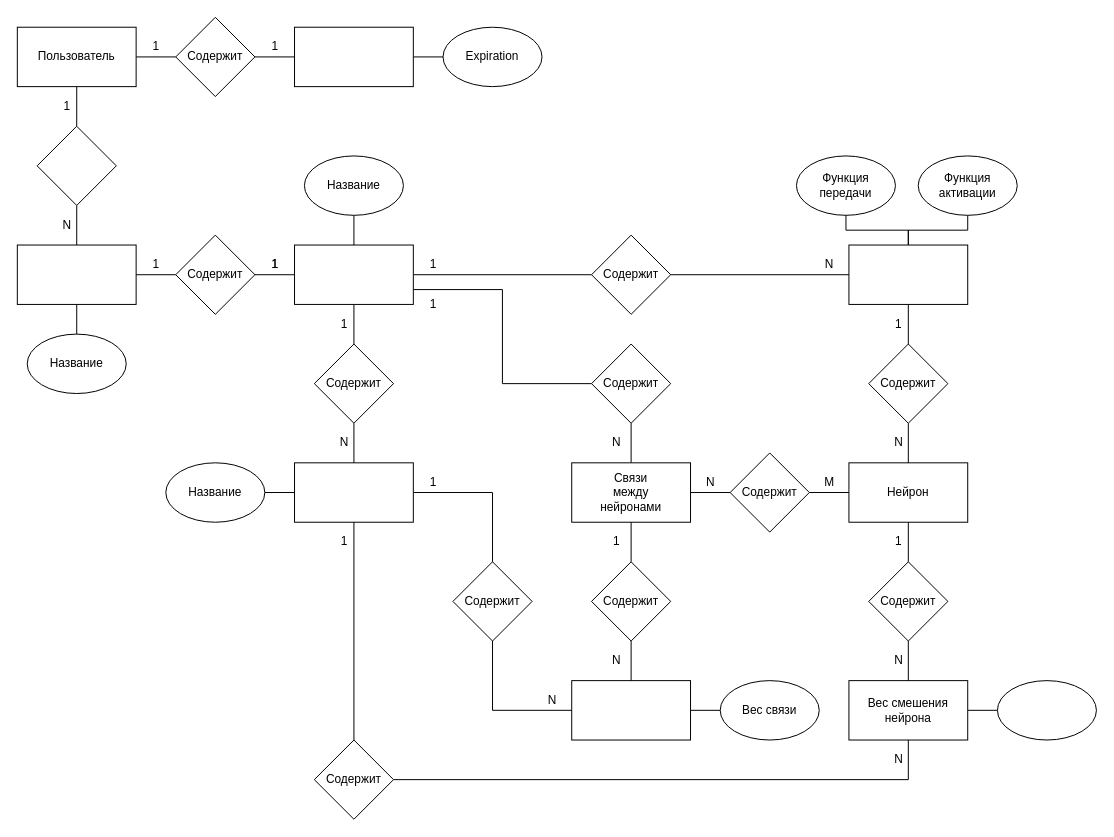
The diagram is 1114 pixels wide and 837 high, and some of its shapes have lost their labels. The shapes that lost their labels are listed below. From the top down, each one's centre as x and y in pixels, then its label:
At pixel 353 56: "Блокировка пользорвателя".
At pixel 76 165: "Владеет".
At pixel 76 274: "Модель".
At pixel 353 274: "Структура".
At pixel 908 274: "Слой".
At pixel 353 492: "Конфигурация весов".
At pixel 631 710: "Вес связи между нейронами".
At pixel 1046 710: "Смещение".
